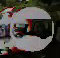Heavy Vehicles: (7, 6, 54, 52)
